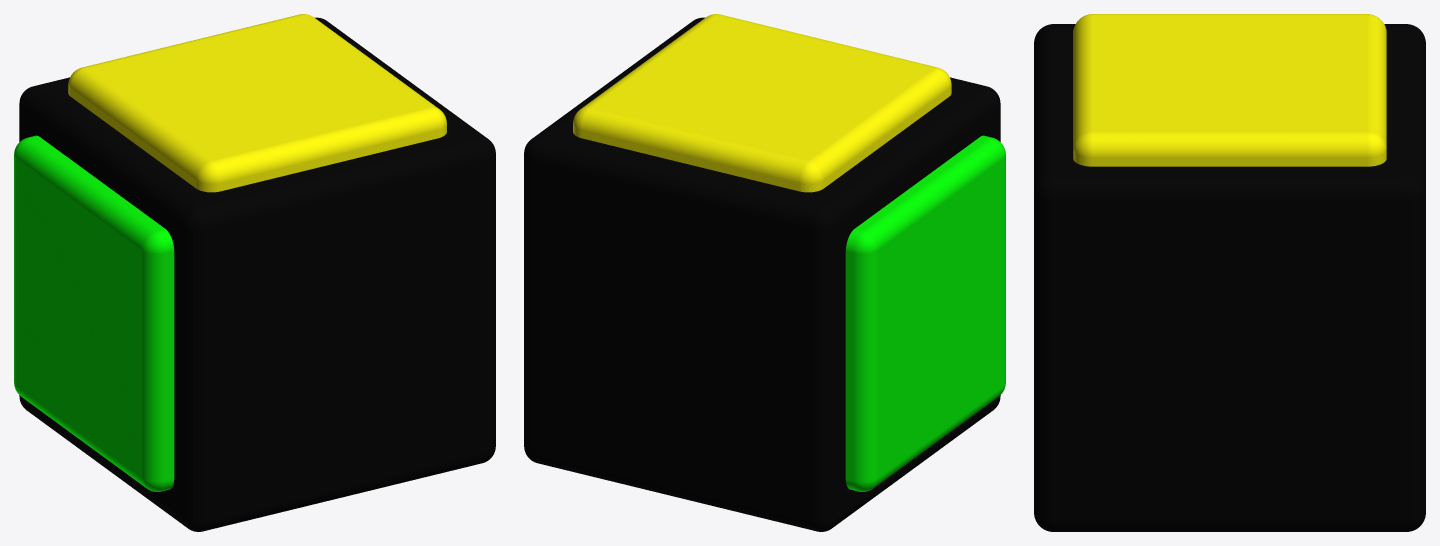
The model's file is cubinho(1, 1, 0).obj.
3 renders of one model, left to right at view 1: azimuth 30°, elevation 25°; view 2: azimuth 150°, elevation 25°; view 3: azimuth 270°, elevation 25°, orthographic. The views are drawn at different scales.
Parts seen in each view (by area): view 1: (1,_1,_0); view 2: (1,_1,_0); view 3: (1,_1,_0).
Boxes of the visible parts, bbox=[...] form: (1,_1,_0): bbox=[14, 14, 495, 531]; (1,_1,_0): bbox=[524, 14, 1005, 531]; (1,_1,_0): bbox=[1034, 14, 1425, 531].
Size of the model in its own units: 2.15 by 2.15 by 2.
